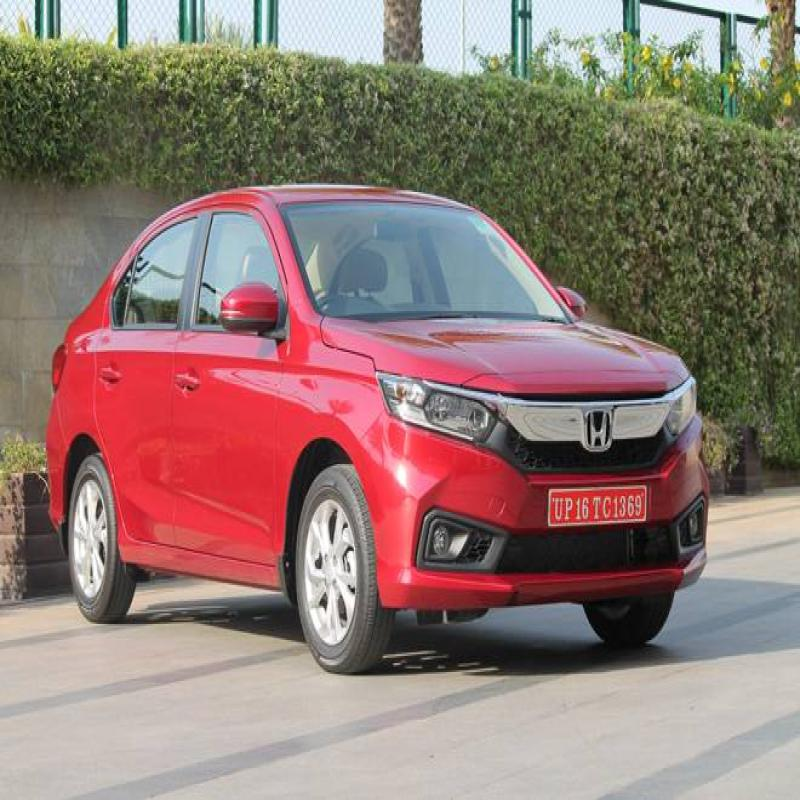car: (45, 176, 702, 671)
